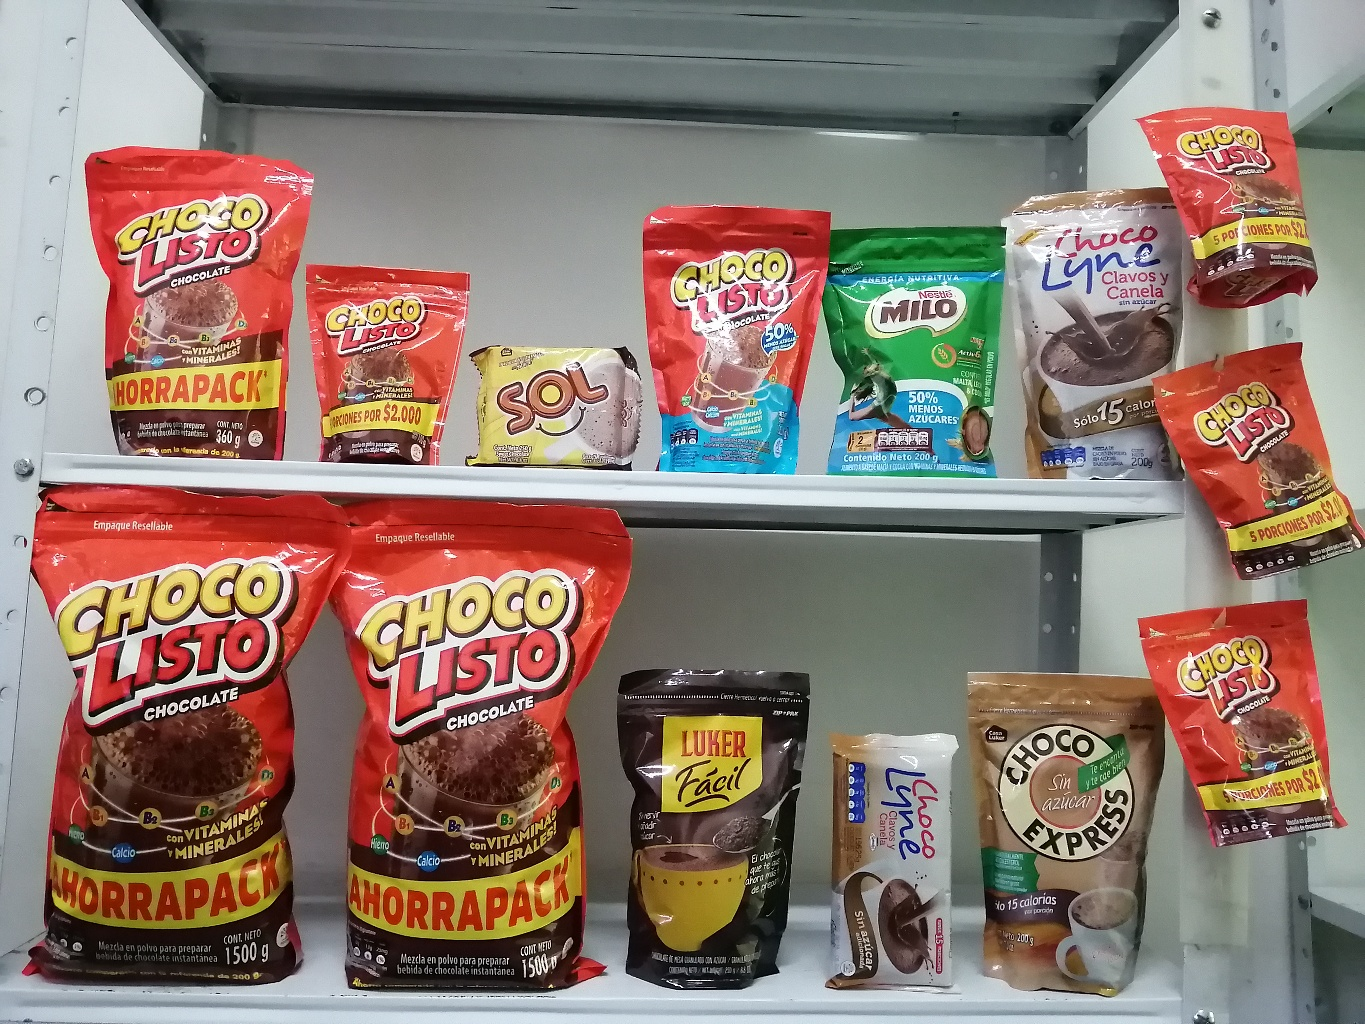COL0170103DYP1,500: (305, 483, 655, 1001)
COL0170103DYP36000: (68, 117, 335, 461)
COL0170104DYP20000: (628, 183, 845, 481)
COL0170205DYP20000: (804, 207, 1034, 485)
